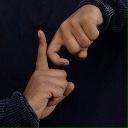hand: (22, 29, 75, 119), (46, 4, 103, 66)
